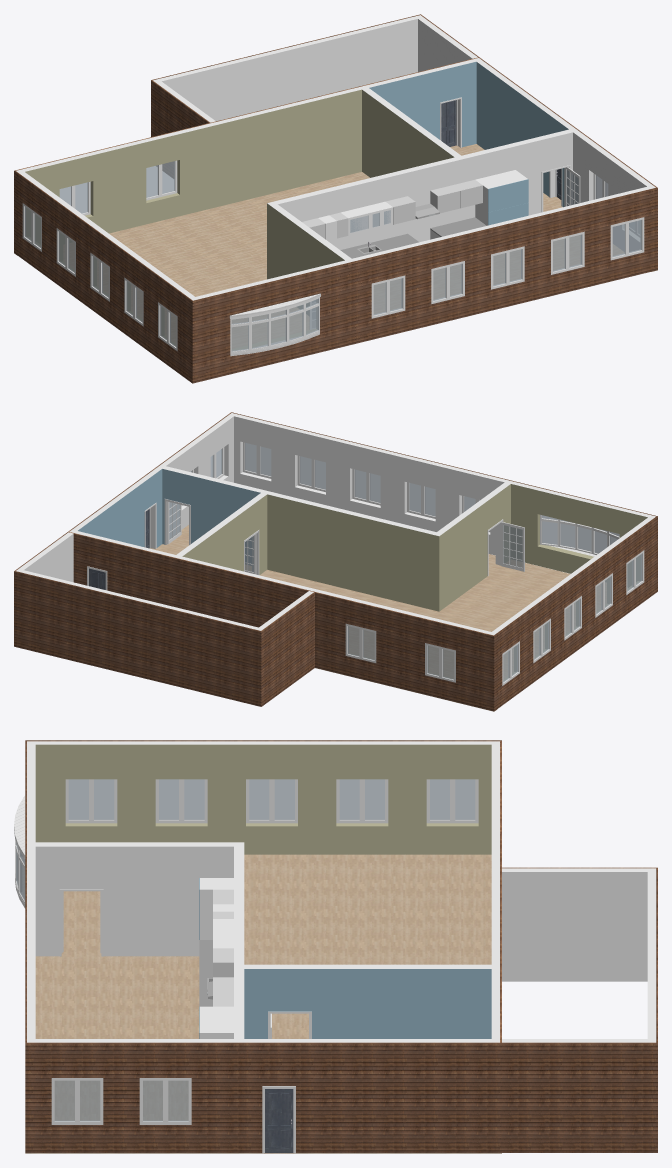
The model's file is ArchicadLevel2.fbx.
3 renders of one model, top to bottom at view 1: azimuth 30°, elevation 25°; view 2: azimuth 150°, elevation 25°; view 3: azimuth 270°, elevation 25°, orthographic. The views are drawn at different scales.
Parts seen in each view (by area): view 1: VT- (×14), Dekke-, V- (×13), YD- (×2), Høyskap - Obj. -, Høyskap tofløyet - Obj. -, Overskap - Obj. -, Underskap med tre dører - Obj. -; view 2: VT- (×14), V- (×12), Dekke-, YD- (×4); view 3: VT- (×14), Dekke-, V- (×8), YD- (×2), Høyskap - Obj. -, Høyskap tofløyet - Obj. -.
Part boxes in pixels (x1=…): VT- (×14): x1=14, y1=14, x2=657, y2=383; Dekke-: x1=14, y1=144, x2=657, y2=348; V- (×13): x1=22, y1=160, x2=644, y2=356; YD- (×2): x1=440, y1=97, x2=580, y2=212; Høyskap - Obj. -: x1=475, y1=175, x2=505, y2=225; Høyskap tofløyet - Obj. -: x1=493, y1=170, x2=528, y2=220; Overskap - Obj. -: x1=341, y1=207, x2=370, y2=235; Underskap med tre dører - Obj. -: x1=341, y1=239, x2=396, y2=258; VT- (×14): x1=14, y1=412, x2=657, y2=711; V- (×12): x1=243, y1=442, x2=644, y2=685; Dekke-: x1=149, y1=525, x2=606, y2=711; YD- (×4): x1=144, y1=499, x2=524, y2=575; VT- (×14): x1=25, y1=740, x2=657, y2=1152; Dekke-: x1=25, y1=854, x2=501, y2=1153; V- (×8): x1=14, y1=779, x2=478, y2=1124; YD- (×2): x1=59, y1=889, x2=295, y2=1153; Høyskap - Obj. -: x1=199, y1=878, x2=233, y2=939; Høyskap tofløyet - Obj. -: x1=199, y1=1018, x2=233, y2=1038.
Size of the model in its own units: 2078 by 1862 by 351.
15 materials, 5 textured.
